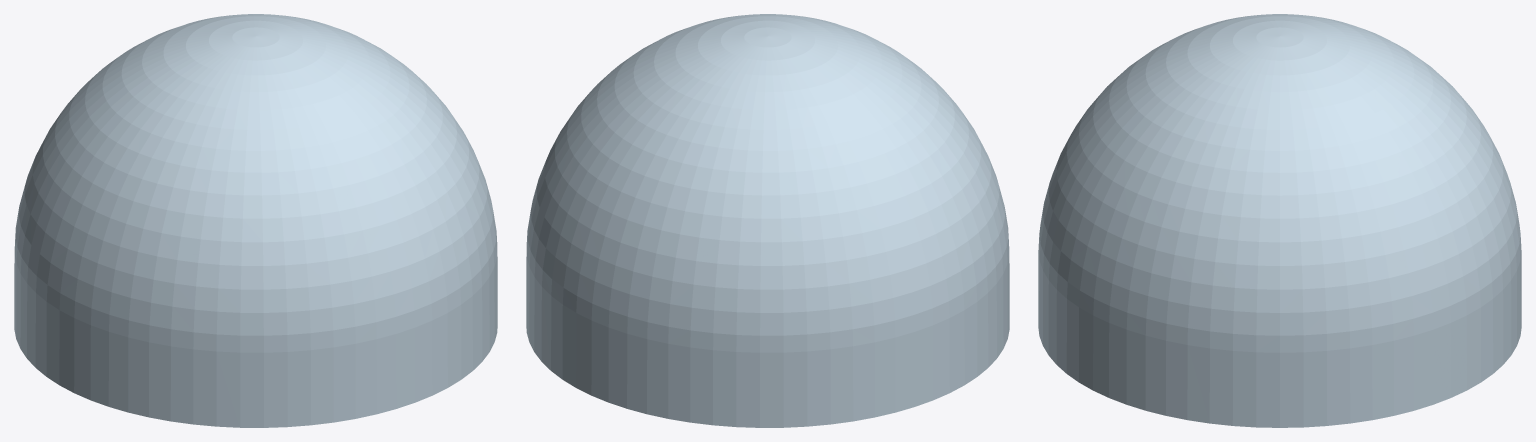
Rendered from Haven_Sky.desktop.glb.
The picture shows the model from 3 angles, left to right: view 1: azimuth 30°, elevation 25°; view 2: azimuth 150°, elevation 25°; view 3: azimuth 270°, elevation 25°; orthographic projection.
Visible parts, largest first — view 1: shared_SkyDomeB; view 2: shared_SkyDomeB; view 3: shared_SkyDomeB.
Boxes of the visible parts, bbox=[...] form: shared_SkyDomeB: bbox=[14, 14, 497, 427]; shared_SkyDomeB: bbox=[526, 14, 1009, 427]; shared_SkyDomeB: bbox=[1038, 14, 1521, 427].
Bounding box in the file's own units: 16384 × 10817 × 16384.
